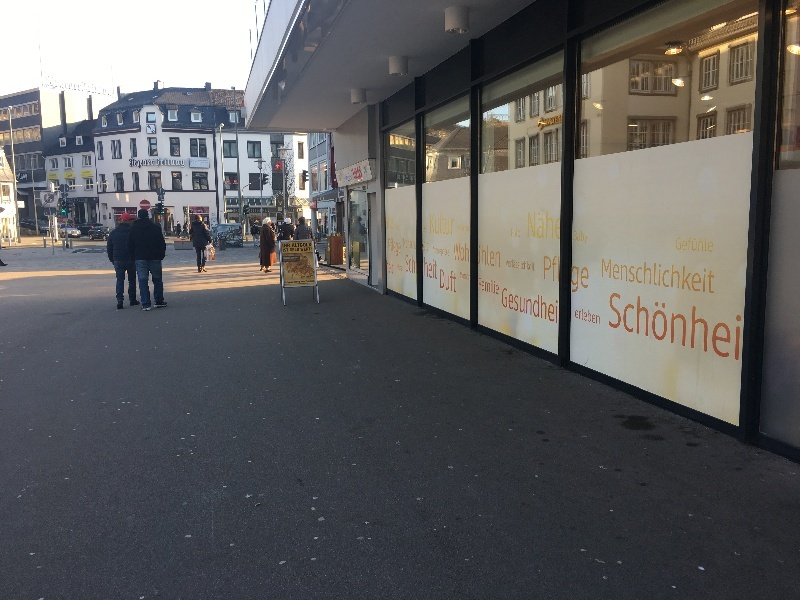text: (625, 291, 640, 362), (641, 291, 656, 362), (657, 291, 672, 362), (673, 291, 688, 362), (689, 291, 704, 362), (705, 291, 720, 362), (721, 291, 736, 362), (611, 291, 624, 362), (609, 258, 624, 295), (625, 258, 640, 295), (641, 258, 656, 295), (657, 258, 672, 295), (673, 258, 688, 295), (689, 258, 704, 295), (513, 288, 528, 324), (529, 288, 544, 324), (545, 210, 561, 240), (545, 288, 558, 324), (529, 210, 544, 240), (545, 255, 560, 282), (577, 266, 590, 295), (705, 258, 715, 295), (481, 245, 496, 269), (502, 288, 512, 324), (737, 291, 742, 362), (433, 213, 448, 236), (49, 75, 64, 97), (65, 75, 80, 97), (81, 75, 96, 97), (97, 75, 112, 97), (577, 307, 592, 326), (481, 278, 496, 296), (689, 237, 704, 253), (602, 258, 608, 295), (389, 238, 400, 258), (386, 215, 400, 230), (406, 254, 416, 274), (454, 243, 464, 263), (387, 260, 400, 275), (513, 259, 528, 272), (545, 114, 560, 127), (440, 269, 448, 293), (449, 269, 457, 293), (676, 237, 688, 253), (353, 166, 363, 184), (129, 158, 144, 169), (425, 257, 432, 280), (403, 238, 416, 250), (434, 247, 448, 258), (577, 231, 588, 245), (161, 158, 176, 168), (401, 173, 416, 183), (705, 237, 714, 253), (17, 172, 32, 181), (593, 307, 600, 326), (572, 266, 576, 295), (449, 213, 454, 236), (433, 257, 438, 280), (145, 158, 155, 169), (465, 243, 470, 263), (423, 240, 432, 251), (497, 245, 501, 269), (344, 172, 352, 183), (177, 158, 185, 168), (506, 259, 512, 272), (529, 259, 535, 272), (340, 188, 352, 194), (66, 173, 80, 178), (513, 228, 520, 238), (115, 209, 128, 214), (290, 248, 304, 252), (293, 243, 304, 248), (423, 227, 432, 233), (497, 278, 500, 296), (195, 209, 208, 213), (228, 209, 240, 213), (478, 245, 480, 269), (430, 213, 432, 236), (65, 199, 74, 204), (465, 272, 470, 281), (46, 75, 48, 97), (458, 225, 464, 232), (156, 158, 160, 168), (257, 209, 267, 213), (247, 209, 256, 213), (460, 272, 464, 281), (81, 198, 88, 203), (305, 243, 312, 248), (129, 210, 137, 214), (395, 225, 400, 231), (397, 173, 400, 183), (305, 248, 312, 252), (465, 225, 469, 232), (574, 231, 576, 245), (561, 114, 563, 127), (75, 198, 80, 203), (289, 208, 295, 212), (397, 264, 400, 272), (401, 264, 404, 272), (60, 199, 64, 204), (299, 208, 304, 212), (283, 244, 288, 248), (294, 281, 304, 283), (284, 206, 288, 211), (295, 257, 304, 259), (351, 166, 352, 184), (479, 278, 480, 296), (49, 204, 54, 207), (283, 249, 288, 252), (289, 257, 294, 260), (543, 114, 544, 127), (301, 248, 304, 252), (284, 257, 288, 260), (449, 247, 450, 258), (289, 282, 294, 284), (511, 228, 512, 238), (193, 162, 197, 164), (289, 244, 291, 248), (46, 204, 48, 207), (285, 282, 288, 284)
